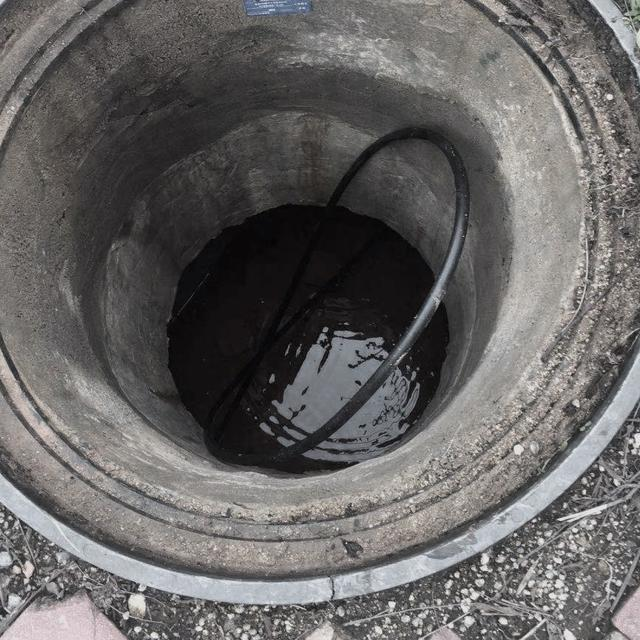lose: (0, 0, 640, 558)
